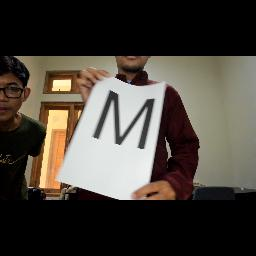m: (89, 87, 155, 157)
